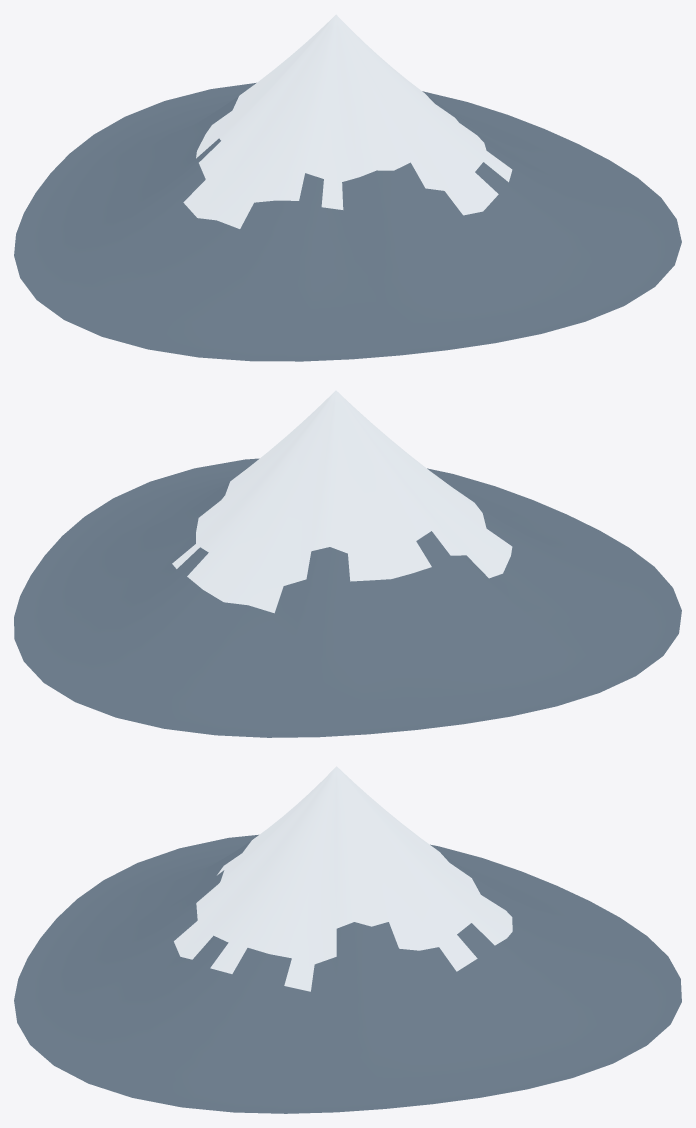
File: Blender_Volcano_1.glb
The picture shows the model from 3 angles, top to bottom: view 1: azimuth 30°, elevation 25°; view 2: azimuth 150°, elevation 25°; view 3: azimuth 270°, elevation 25°; orthographic projection.
Visible parts, largest first — view 1: Blender_Volcano_1; view 2: Blender_Volcano_1; view 3: Blender_Volcano_1.
Part boxes in pixels (x1,y1,x2,y2): Blender_Volcano_1: [14, 14, 681, 361]; Blender_Volcano_1: [14, 390, 681, 737]; Blender_Volcano_1: [14, 766, 681, 1113].
Size of the model in its own units: 8686 by 3060 by 8711.
